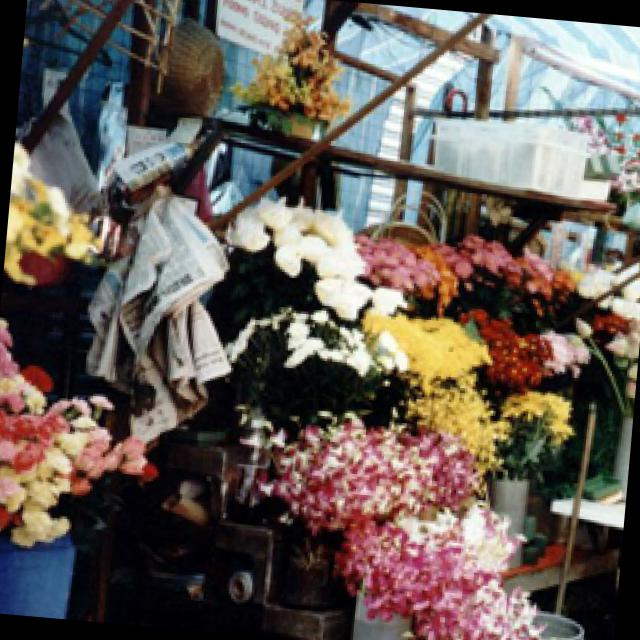basket crop: (156, 12, 221, 107)
bucket crop: (0, 530, 72, 609)
floor -X: (26, 587, 613, 640)
flowers in pot: (240, 417, 534, 640), (0, 343, 149, 543), (206, 191, 402, 335), (217, 308, 405, 440), (356, 307, 496, 469), (452, 229, 584, 327), (6, 140, 100, 276), (230, 4, 347, 112), (457, 304, 556, 408), (353, 233, 469, 320), (498, 386, 569, 484), (538, 327, 587, 397)
paper cup with straws: (84, 175, 230, 448)
pot hanger: (489, 478, 522, 564), (241, 102, 326, 135)
shelves crop: (82, 104, 616, 631)
